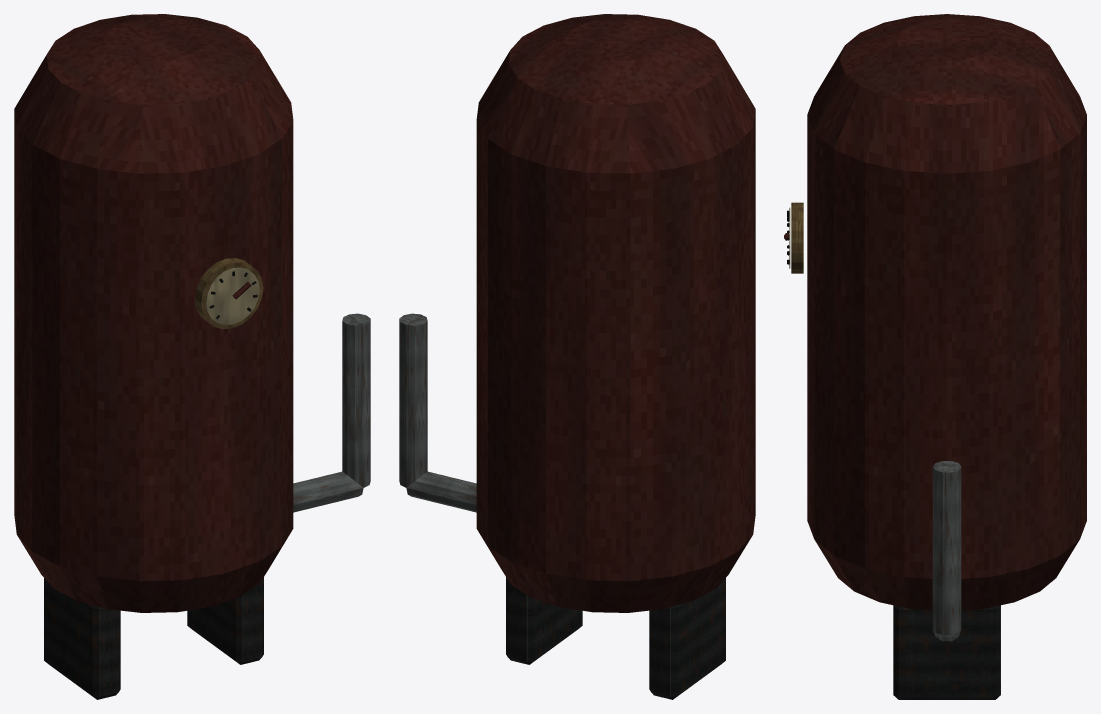
Rendered from level_expansion_vessel_worn.glb.
The picture shows the model from 3 angles, left to right: view 1: azimuth 30°, elevation 25°; view 2: azimuth 150°, elevation 25°; view 3: azimuth 270°, elevation 25°; orthographic projection.
Visible parts, largest first — view 1: level_expansion_vessel_worn; view 2: level_expansion_vessel_worn; view 3: level_expansion_vessel_worn.
Part boxes in pixels (<box>): level_expansion_vessel_worn: <box>14,14,370,699</box>; level_expansion_vessel_worn: <box>399,14,755,699</box>; level_expansion_vessel_worn: <box>784,14,1086,699</box>.
Size of the model in its own units: 1.08 by 1.91 by 0.845.
Materials: 6 (6 with a texture image).
